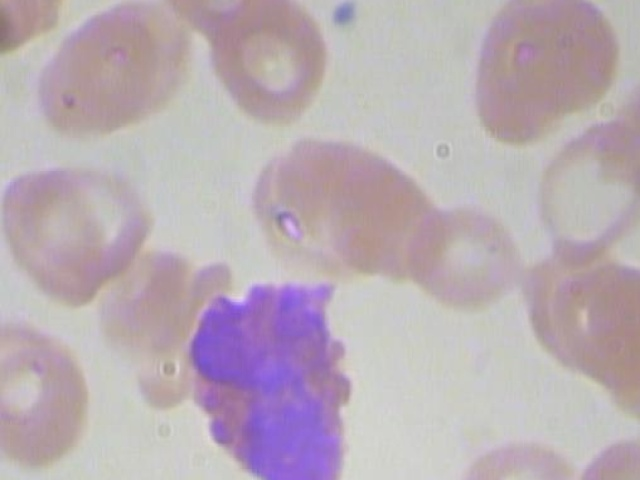Platelets: (321, 0, 371, 32)
RBC: (462, 0, 629, 161), (39, 5, 166, 144), (529, 112, 640, 271), (14, 164, 158, 285), (200, 0, 336, 123), (0, 341, 95, 479), (413, 203, 522, 312), (148, 0, 281, 50), (565, 434, 640, 480), (0, 0, 46, 64), (432, 461, 535, 480)
WBC: (151, 267, 387, 480)
